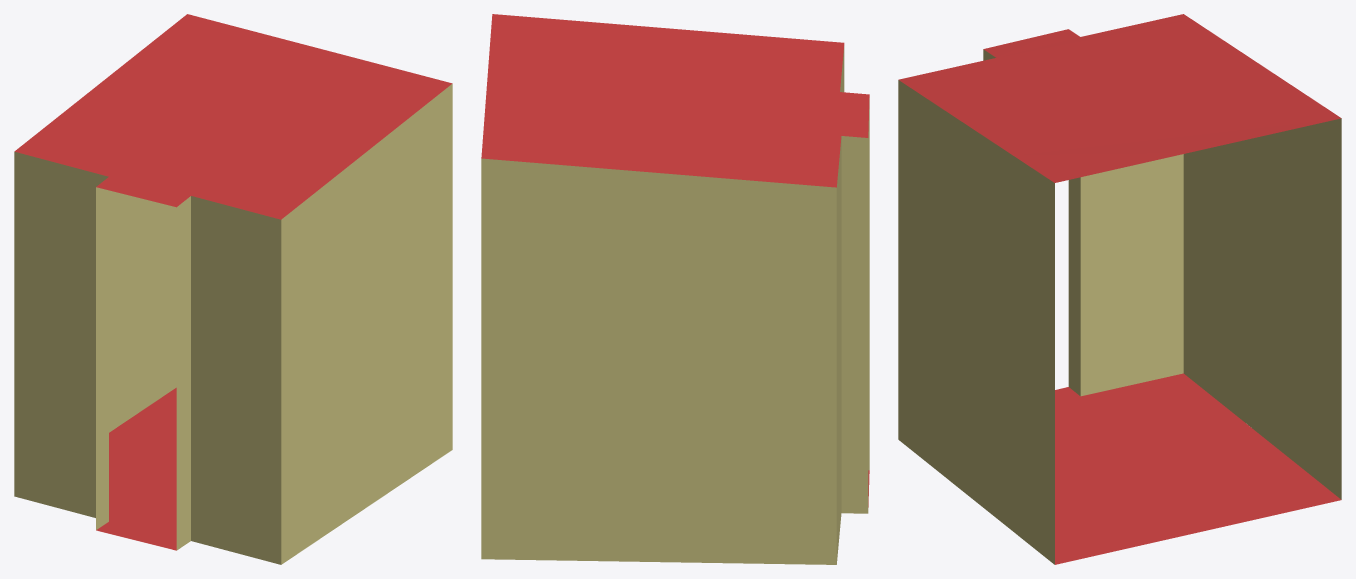
The picture shows the model from 3 angles, left to right: view 1: azimuth 30°, elevation 25°; view 2: azimuth 150°, elevation 25°; view 3: azimuth 270°, elevation 25°; orthographic projection. The views are drawn at different scales.
Parts seen in each view (by area): view 1: group_4, group_3, group_5; view 2: group_4, group_3; view 3: group_4, group_3, group_5.
Boxes of the visible parts, <box> form: group_4: <box>14,84,452,564</box>; group_3: <box>14,14,452,219</box>; group_5: <box>96,387,176,550</box>; group_4: <box>481,46,869,564</box>; group_3: <box>481,14,869,187</box>; group_4: <box>898,49,1341,564</box>; group_3: <box>898,14,1341,182</box>; group_5: <box>1055,373,1340,564</box>.
Bounding box in the file's own units: 10.92 × 10.69 × 10.15.
